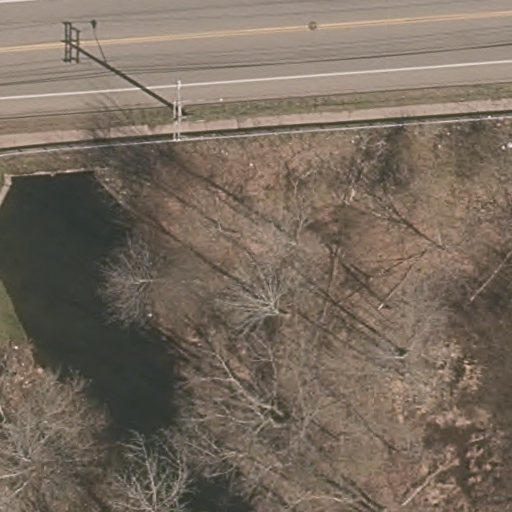DT: (162, 74, 191, 143)
